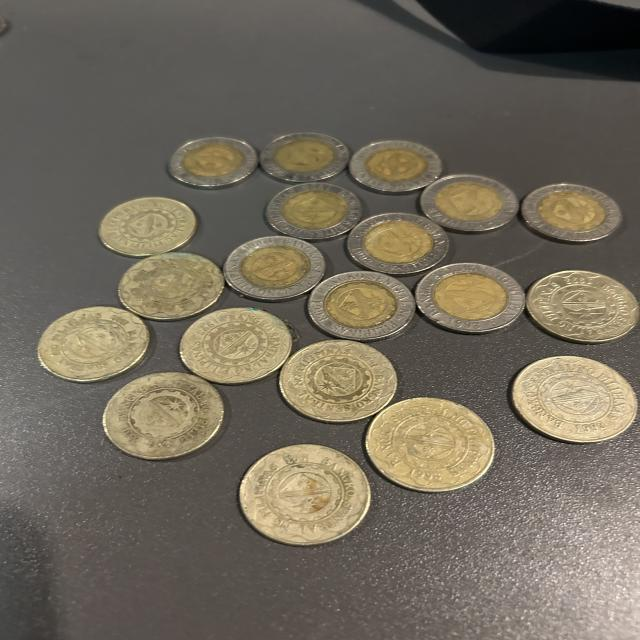10_Old_Back: (306, 270, 416, 340)
5_Old_Back: (281, 338, 398, 422), (179, 309, 288, 382)
